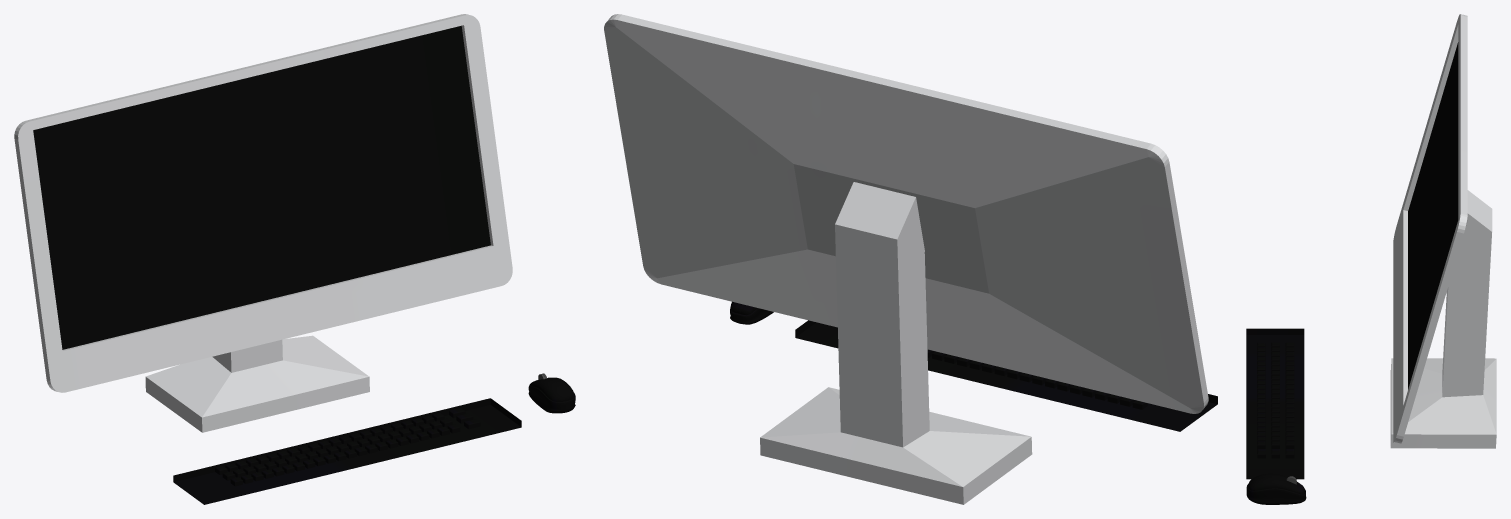
File: Computadora.fbx
3 renders of one model, left to right at view 1: azimuth 30°, elevation 25°; view 2: azimuth 150°, elevation 25°; view 3: azimuth 270°, elevation 25°, orthographic. The views are drawn at different scales.
Parts seen in each view (by area): view 1: Mouse; view 2: Mouse; view 3: Mouse.
Part boxes in pixels (box(x1,y1,x2,y2)): Mouse: box(14, 14, 575, 504); Mouse: box(604, 14, 1217, 504); Mouse: box(1246, 14, 1496, 504).
Size of the model in its own units: 45 by 29.5 by 22.66.
8 materials, 7 textured.
